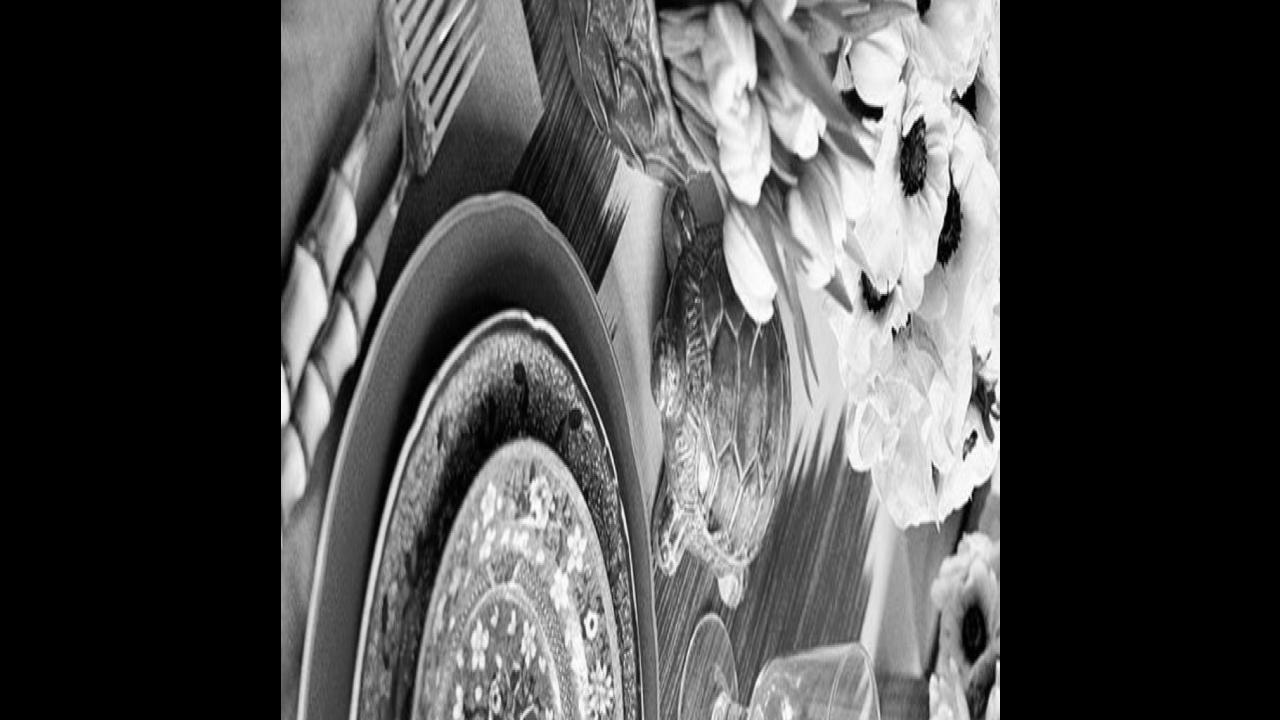fork: (280, 0, 488, 530), (280, 0, 458, 425)
